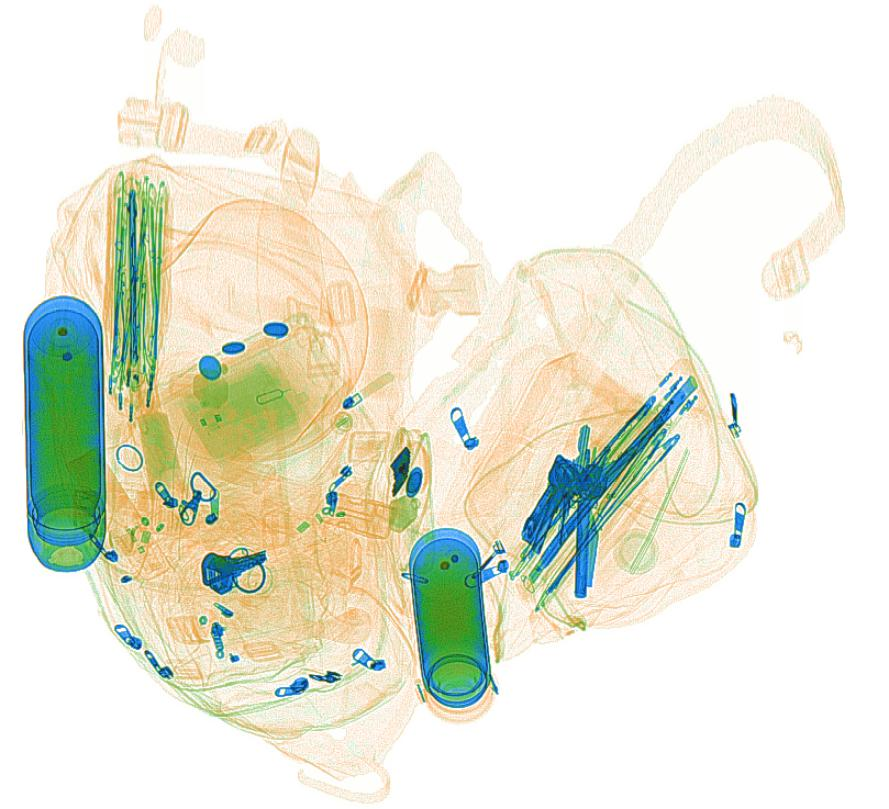knife: (573, 491, 599, 599)
plasticBottleWithaNozzle: (63, 445, 171, 580)
